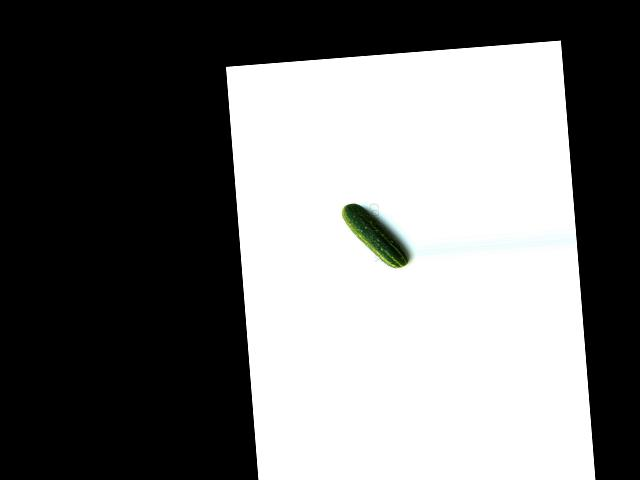cucumber: (341, 200, 409, 273)
